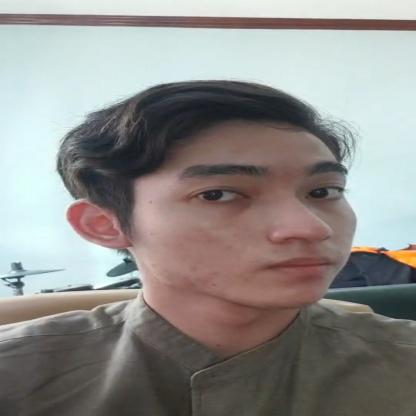Palm: (41, 70, 415, 322)
